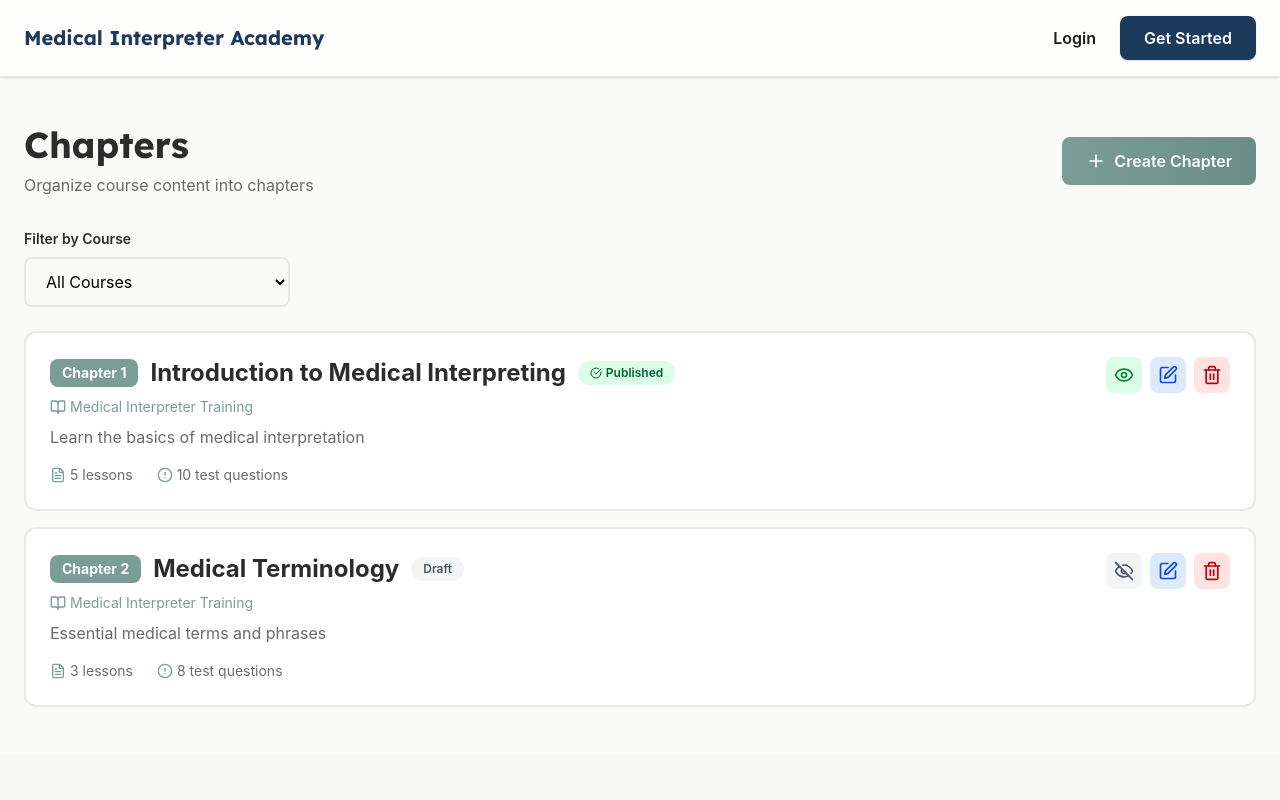
Test case: AdminChapters Page › Edit Chapter › should open edit modal with pre-filled data
Check: the heading "Introduction to Medical Interpreting" is shown, box 150,357 -> 566,389
Click the button titled "Edit" in the row of "Published" at (1168, 375), box 1150,357 -> 1186,393
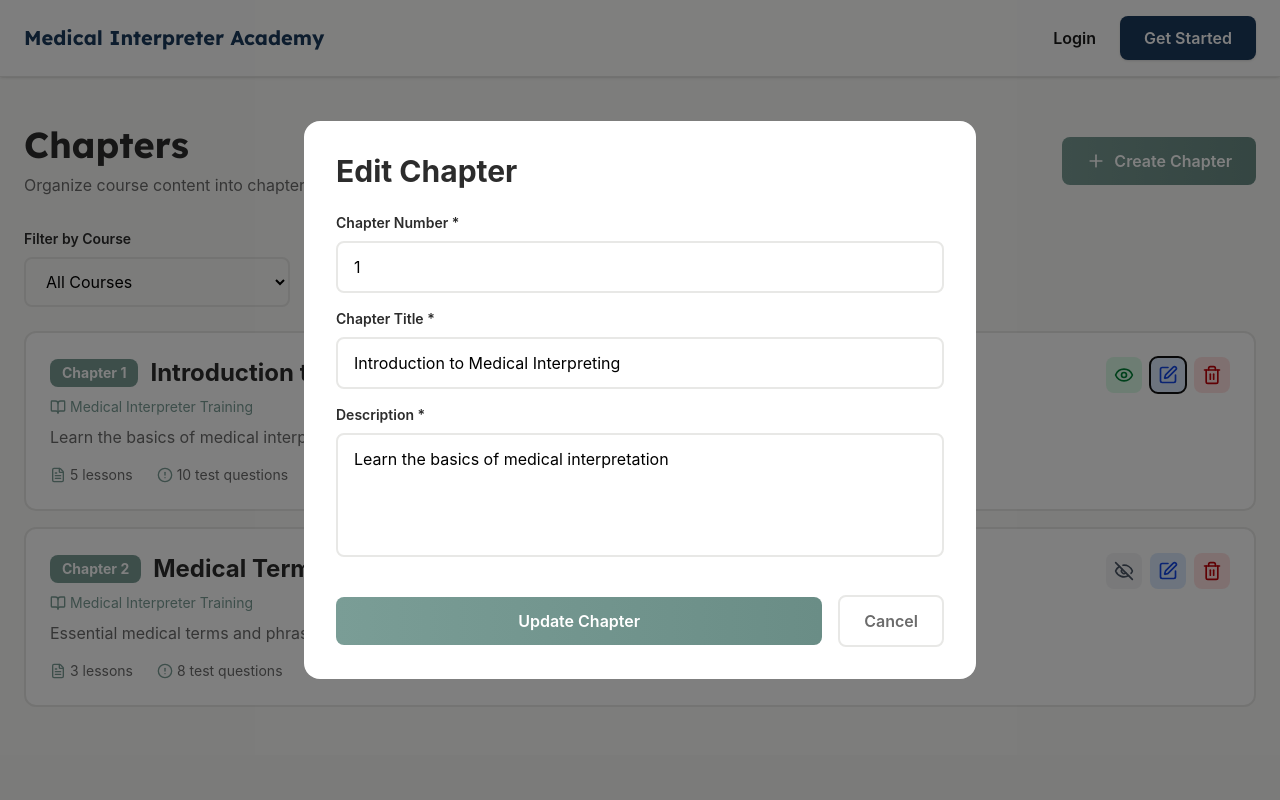
Check: the heading "Edit Chapter" is shown, box 336,153 -> 517,189
Check: the field showing "introduction to medical interpreting" is shown, box 336,337 -> 944,389
Check: the text box showing "learn the basics" is shown, box 336,433 -> 944,557
